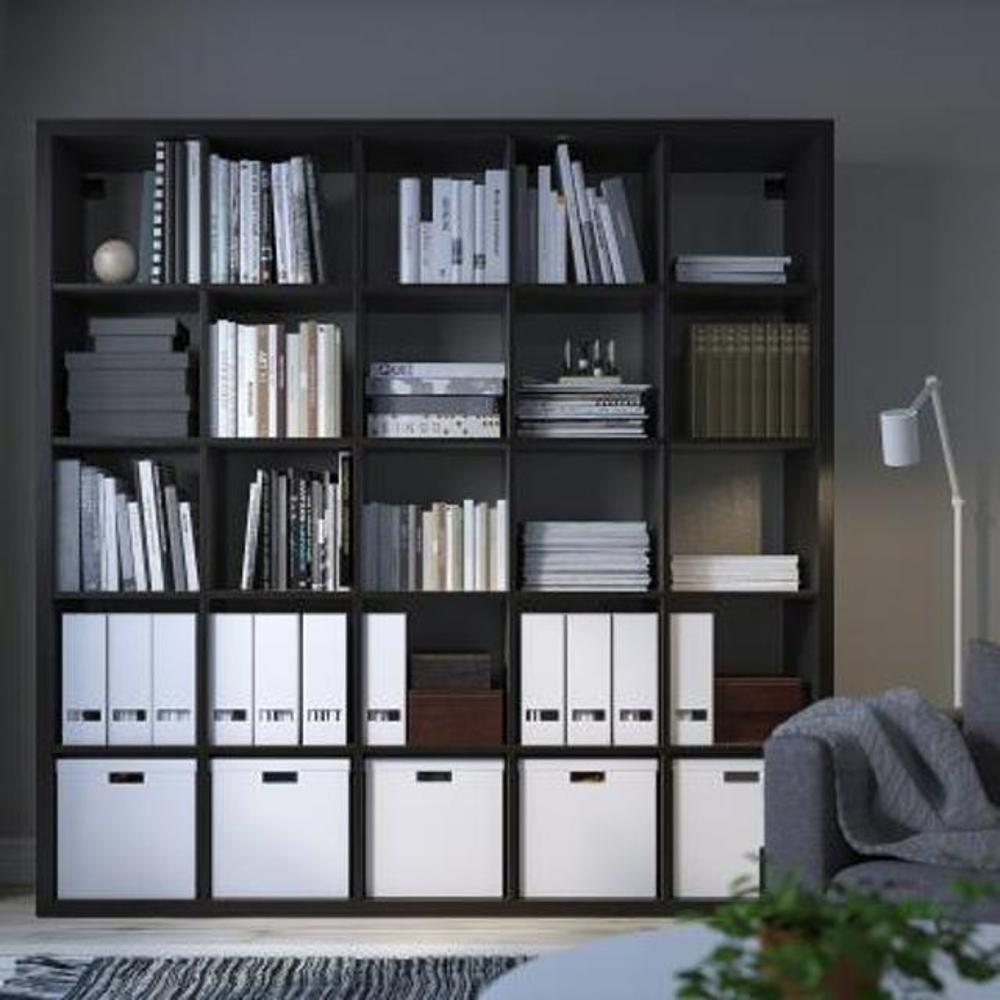lamp: (29, 113, 838, 925)
